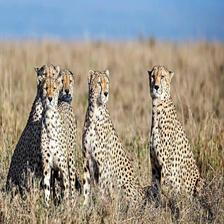Cheetah: (84, 66, 142, 205), (146, 65, 203, 202), (6, 64, 57, 200), (34, 76, 80, 208), (30, 68, 72, 199)
